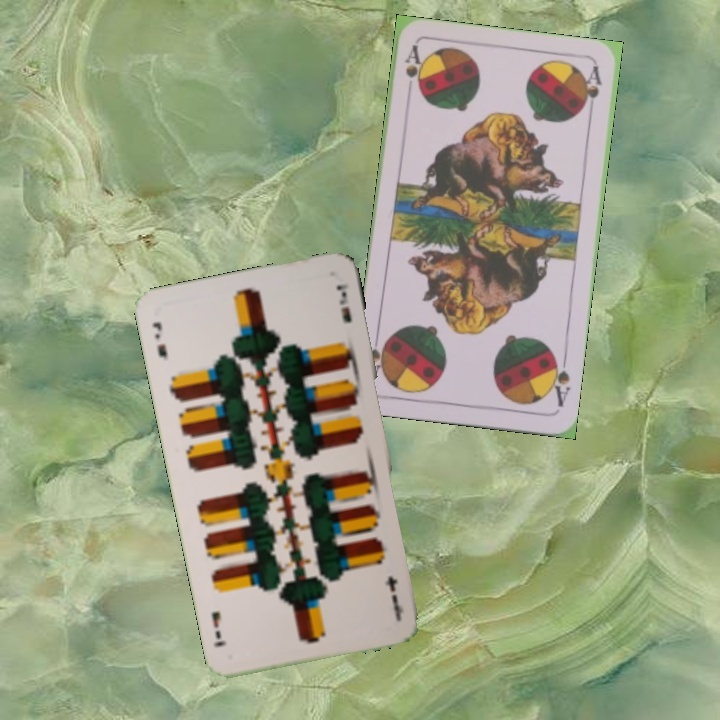E7: (385, 572, 406, 620), (148, 318, 170, 363)
SA: (545, 351, 573, 410), (401, 41, 425, 94)
